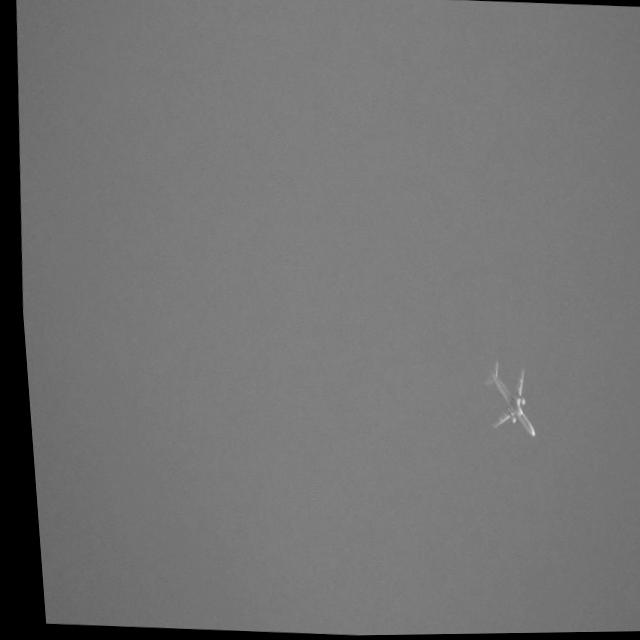aeroplane: (474, 355, 533, 448)
